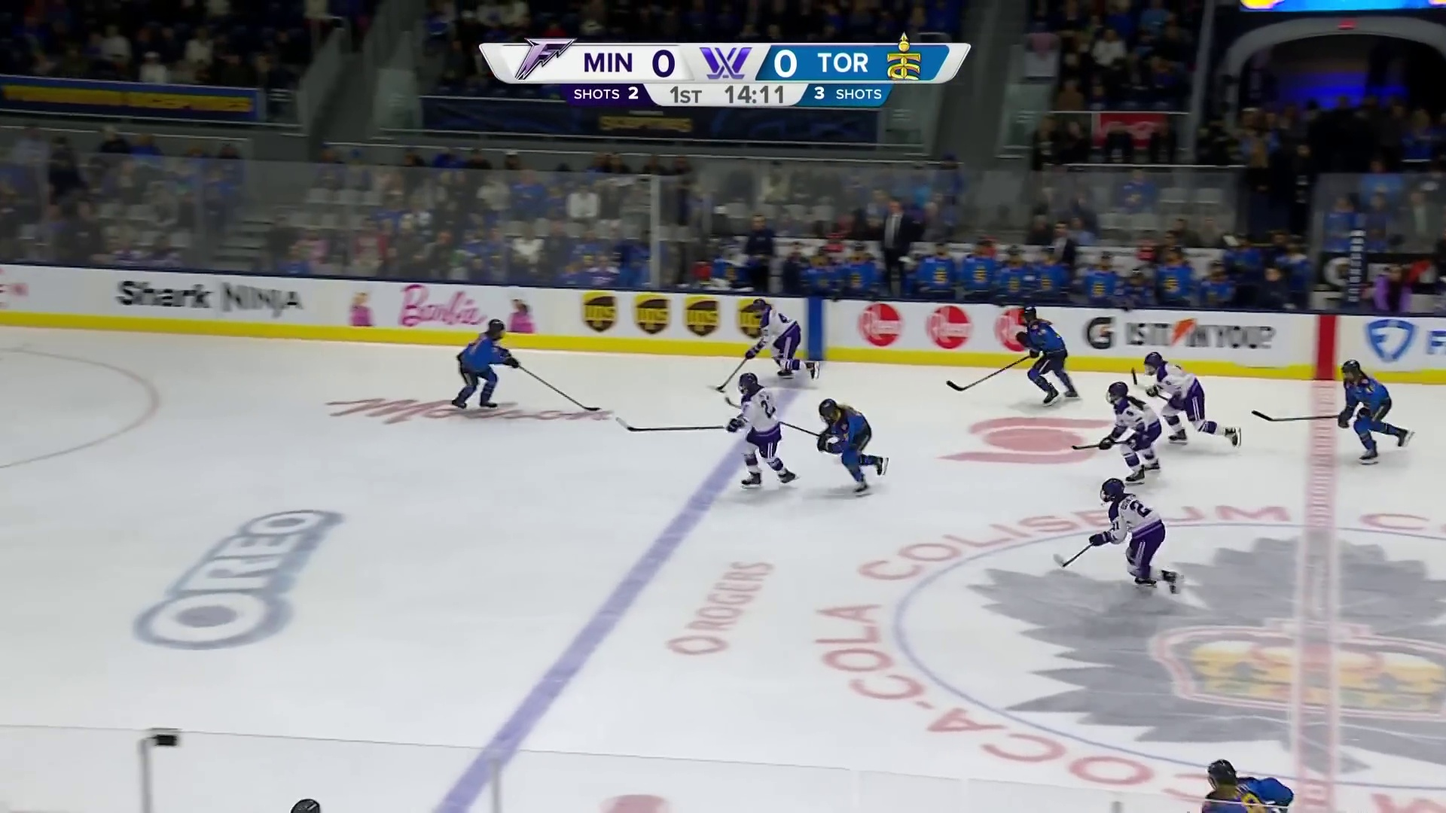player: (1091, 474, 1186, 593), (1143, 351, 1242, 448), (1334, 359, 1415, 466), (726, 369, 797, 487), (816, 399, 893, 494), (1017, 306, 1082, 410), (452, 319, 522, 411), (1100, 381, 1163, 483), (750, 297, 820, 379)
puck: (719, 389, 727, 394)
